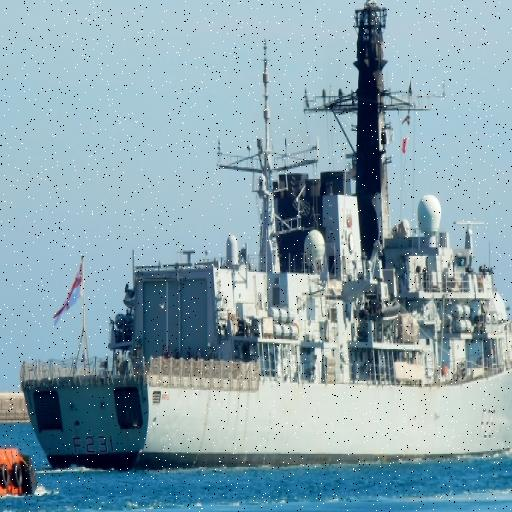Fragata: (20, 1, 512, 485)
